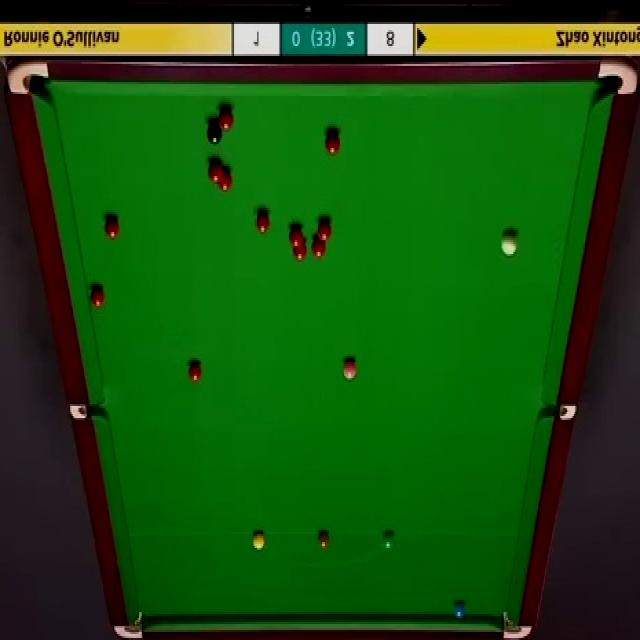black-ball: (206, 121, 222, 144)
blue-ball: (454, 598, 466, 620)
brown-ball: (317, 531, 330, 550)
green-ball: (381, 531, 394, 550)
pink-ball: (342, 356, 358, 378)
red-ball: (317, 216, 333, 243), (208, 158, 226, 182), (105, 216, 121, 242), (325, 130, 341, 156), (90, 282, 105, 307), (218, 109, 234, 132), (255, 212, 269, 236), (217, 170, 233, 191), (290, 225, 305, 246), (292, 241, 307, 262), (312, 237, 326, 259), (188, 362, 202, 380)
white-ball: (500, 225, 518, 257)
yellow-ball: (252, 531, 265, 550)
